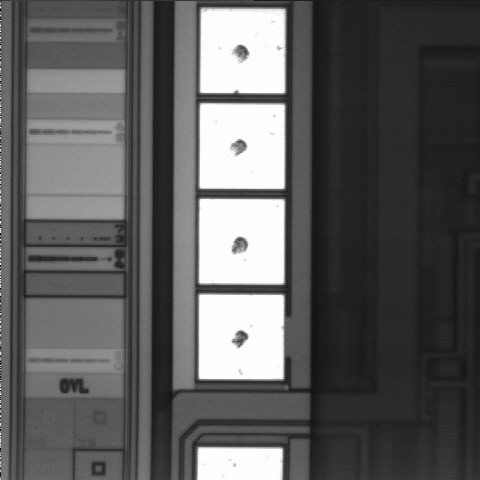pad: (200, 103, 285, 189), (199, 199, 284, 284), (200, 9, 285, 93), (199, 295, 284, 379)
